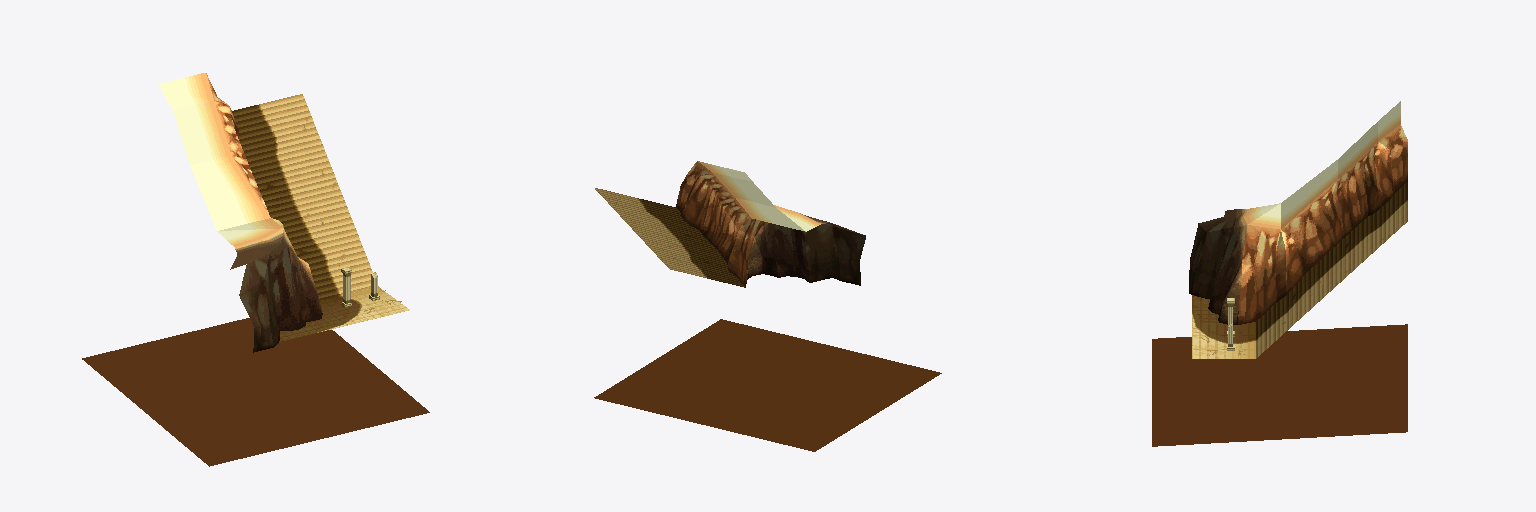
3 views of the same model, side by side, from view 1: azimuth 30°, elevation 25°; view 2: azimuth 150°, elevation 25°; view 3: azimuth 270°, elevation 25° (orthographic).
Visible parts, largest first — view 1: pk_l_iwa6_1_lay0_QUADS_VisGroup0, pk_l_iwa7_1_lay0_QUADS_VisGroup0, out32_u_k2_1_lay0_QUADS_VisGroup0, out32_u_kaida_3_lay0_QUADS_VisGroup0, pk_l_iwa4_1_lay0_TRIS_VisGroup0, pk_l_iwa3_1_lay0_QUADS_VisGroup0, out32_u_k1_1_lay0_QUADS_VisGroup0, out32_u_k6_1_lay0_QUADS_VisGroup0, out32_u_k2_1_lay0_TRIS_VisGroup0, pk_l_iwa7_1_lay0_TRIS_VisGroup0, pk_l_iwa3_1_lay0_TRIS_VisGroup0, out32_u_k4_1_lay0_TRIS_VisGroup0 (+1 smaller); view 2: pk_l_iwa6_1_lay0_QUADS_VisGroup0, pk_l_iwa4_1_lay0_TRIS_VisGroup0, pk_l_iwa3_1_lay0_QUADS_VisGroup0, pk_l_iwa7_1_lay0_QUADS_VisGroup0, out32_u_k2_1_lay0_QUADS_VisGroup0, out32_u_kaida_3_lay0_QUADS_VisGroup0, pk_l_iwa6_1_lay0_TRIS_VisGroup0, pk_l_iwa3_1_lay0_TRIS_VisGroup0, out32_u_k6_1_lay0_QUADS_VisGroup0; view 3: pk_l_iwa6_1_lay0_QUADS_VisGroup0, pk_l_iwa6_1_lay0_TRIS_VisGroup0, pk_l_iwa7_1_lay0_QUADS_VisGroup0, out32_u_k2_1_lay0_QUADS_VisGroup0, pk_l_iwa4_1_lay0_TRIS_VisGroup0, out32_u_kaida_3_lay0_QUADS_VisGroup0, pk_l_iwa3_1_lay0_QUADS_VisGroup0, out32_u_k4_1_lay0_TRIS_VisGroup0, pk_l_iwa3_1_lay0_TRIS_VisGroup0, pk_l_iwa7_1_lay0_TRIS_VisGroup0, out32_u_k6_1_lay0_QUADS_VisGroup0, out32_u_k3_1_lay0_QUADS_VisGroup0 (+1 smaller).
Part boxes in pixels (x1,y1,x2,y2): pk_l_iwa6_1_lay0_QUADS_VisGroup0: (82,94,429,466); pk_l_iwa7_1_lay0_QUADS_VisGroup0: (158,73,270,230); out32_u_k2_1_lay0_QUADS_VisGroup0: (260,94,370,295); out32_u_kaida_3_lay0_QUADS_VisGroup0: (232,104,340,300); pk_l_iwa4_1_lay0_TRIS_VisGroup0: (247,228,322,330); pk_l_iwa3_1_lay0_QUADS_VisGroup0: (239,254,275,352); out32_u_k1_1_lay0_QUADS_VisGroup0: (294,116,349,268); out32_u_k6_1_lay0_QUADS_VisGroup0: (251,169,316,261); out32_u_k2_1_lay0_TRIS_VisGroup0: (267,110,378,286); pk_l_iwa7_1_lay0_TRIS_VisGroup0: (217,218,282,246); pk_l_iwa3_1_lay0_TRIS_VisGroup0: (239,252,279,346); out32_u_k4_1_lay0_TRIS_VisGroup0: (347,287,409,322); pk_l_iwa6_1_lay0_QUADS_VisGroup0: (594,173,941,451); pk_l_iwa4_1_lay0_TRIS_VisGroup0: (748,222,809,282); pk_l_iwa3_1_lay0_QUADS_VisGroup0: (804,224,865,285); pk_l_iwa7_1_lay0_QUADS_VisGroup0: (698,161,805,231); out32_u_k2_1_lay0_QUADS_VisGroup0: (595,188,705,277); out32_u_kaida_3_lay0_QUADS_VisGroup0: (637,198,744,287); pk_l_iwa6_1_lay0_TRIS_VisGroup0: (680,161,765,264); pk_l_iwa3_1_lay0_TRIS_VisGroup0: (808,223,865,282); out32_u_k6_1_lay0_QUADS_VisGroup0: (677,229,727,270); pk_l_iwa6_1_lay0_QUADS_VisGroup0: (1152,140,1407,446); pk_l_iwa6_1_lay0_TRIS_VisGroup0: (1239,125,1407,303); pk_l_iwa7_1_lay0_QUADS_VisGroup0: (1281,101,1400,228); out32_u_k2_1_lay0_QUADS_VisGroup0: (1256,201,1407,357); pk_l_iwa4_1_lay0_TRIS_VisGroup0: (1208,217,1246,324); out32_u_kaida_3_lay0_QUADS_VisGroup0: (1256,182,1407,340); pk_l_iwa3_1_lay0_QUADS_VisGroup0: (1189,223,1231,292); out32_u_k4_1_lay0_TRIS_VisGroup0: (1193,330,1255,358); pk_l_iwa3_1_lay0_TRIS_VisGroup0: (1189,217,1230,299); pk_l_iwa7_1_lay0_TRIS_VisGroup0: (1244,203,1280,229); out32_u_k6_1_lay0_QUADS_VisGroup0: (1287,217,1367,307); out32_u_k3_1_lay0_QUADS_VisGroup0: (1192,295,1255,338).
Size of the model in its own units: 512 by 605 by 512.
Materials: 16 (15 with a texture image).